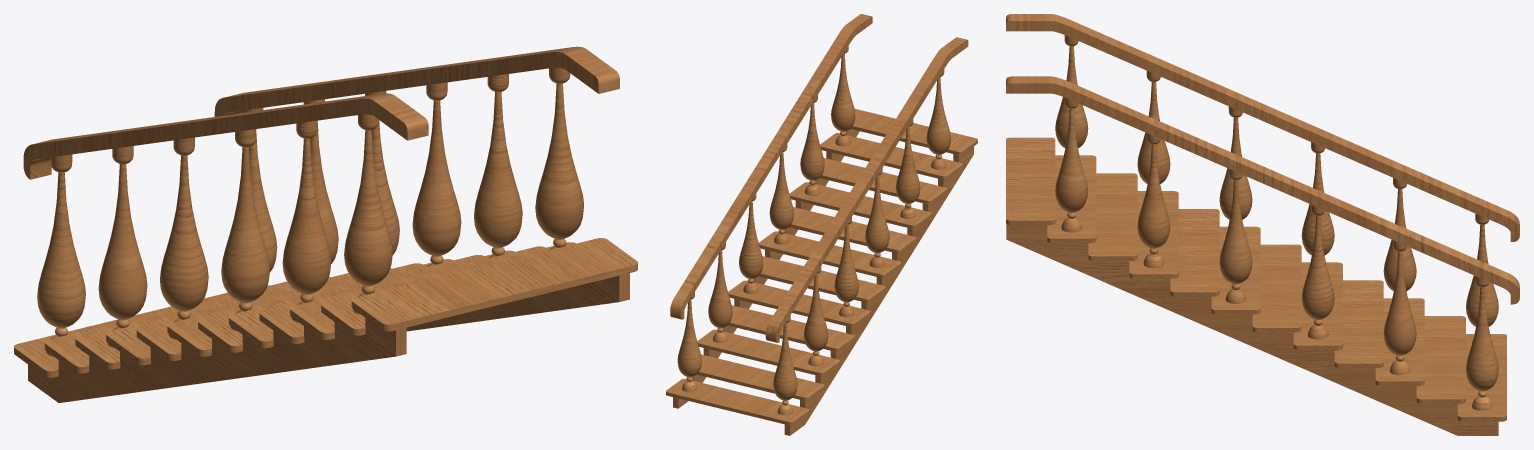
Rendered from stairsNew.FBX.
The picture shows the model from 3 angles, left to right: view 1: azimuth 30°, elevation 25°; view 2: azimuth 150°, elevation 25°; view 3: azimuth 270°, elevation 25°; orthographic projection. The views are drawn at different scales.
Parts seen in each view (by area): view 1: Object01; view 2: Object01; view 3: Object01.
Boxes of the visible parts, <box> form: Object01: <box>14,46,637,402</box>; Object01: <box>666,14,977,435</box>; Object01: <box>1006,14,1519,435</box>.
Size of the model in its own units: 120 by 235 by 313.
Materials: 1 (1 with a texture image).
